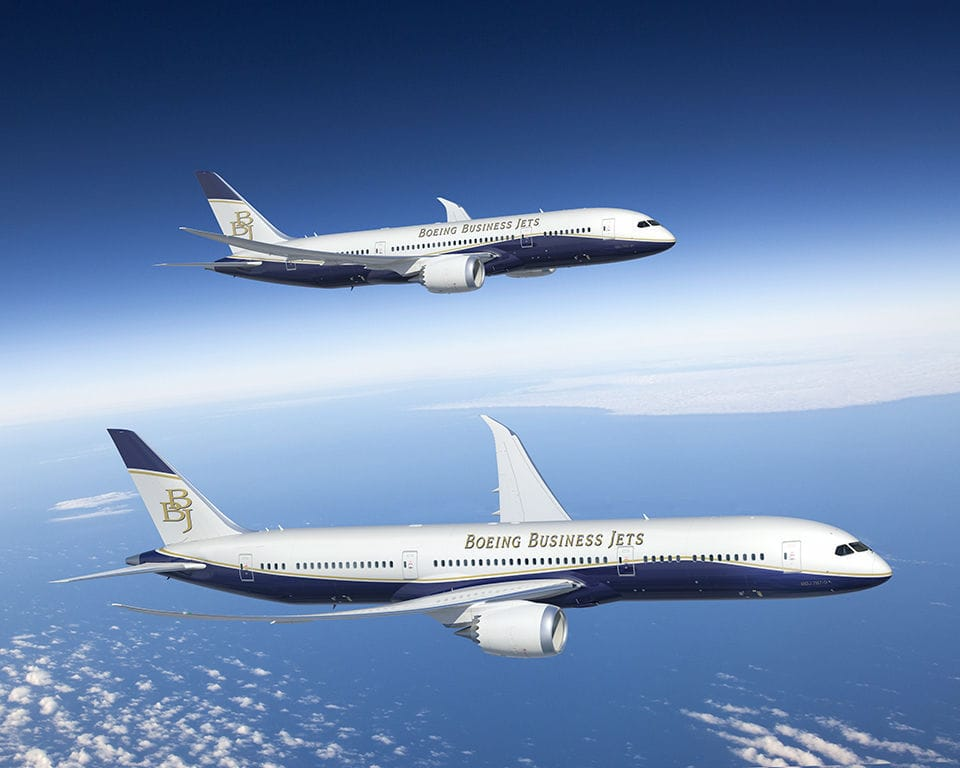Aeronef_commercial: (57, 405, 915, 665), (128, 143, 698, 300)
